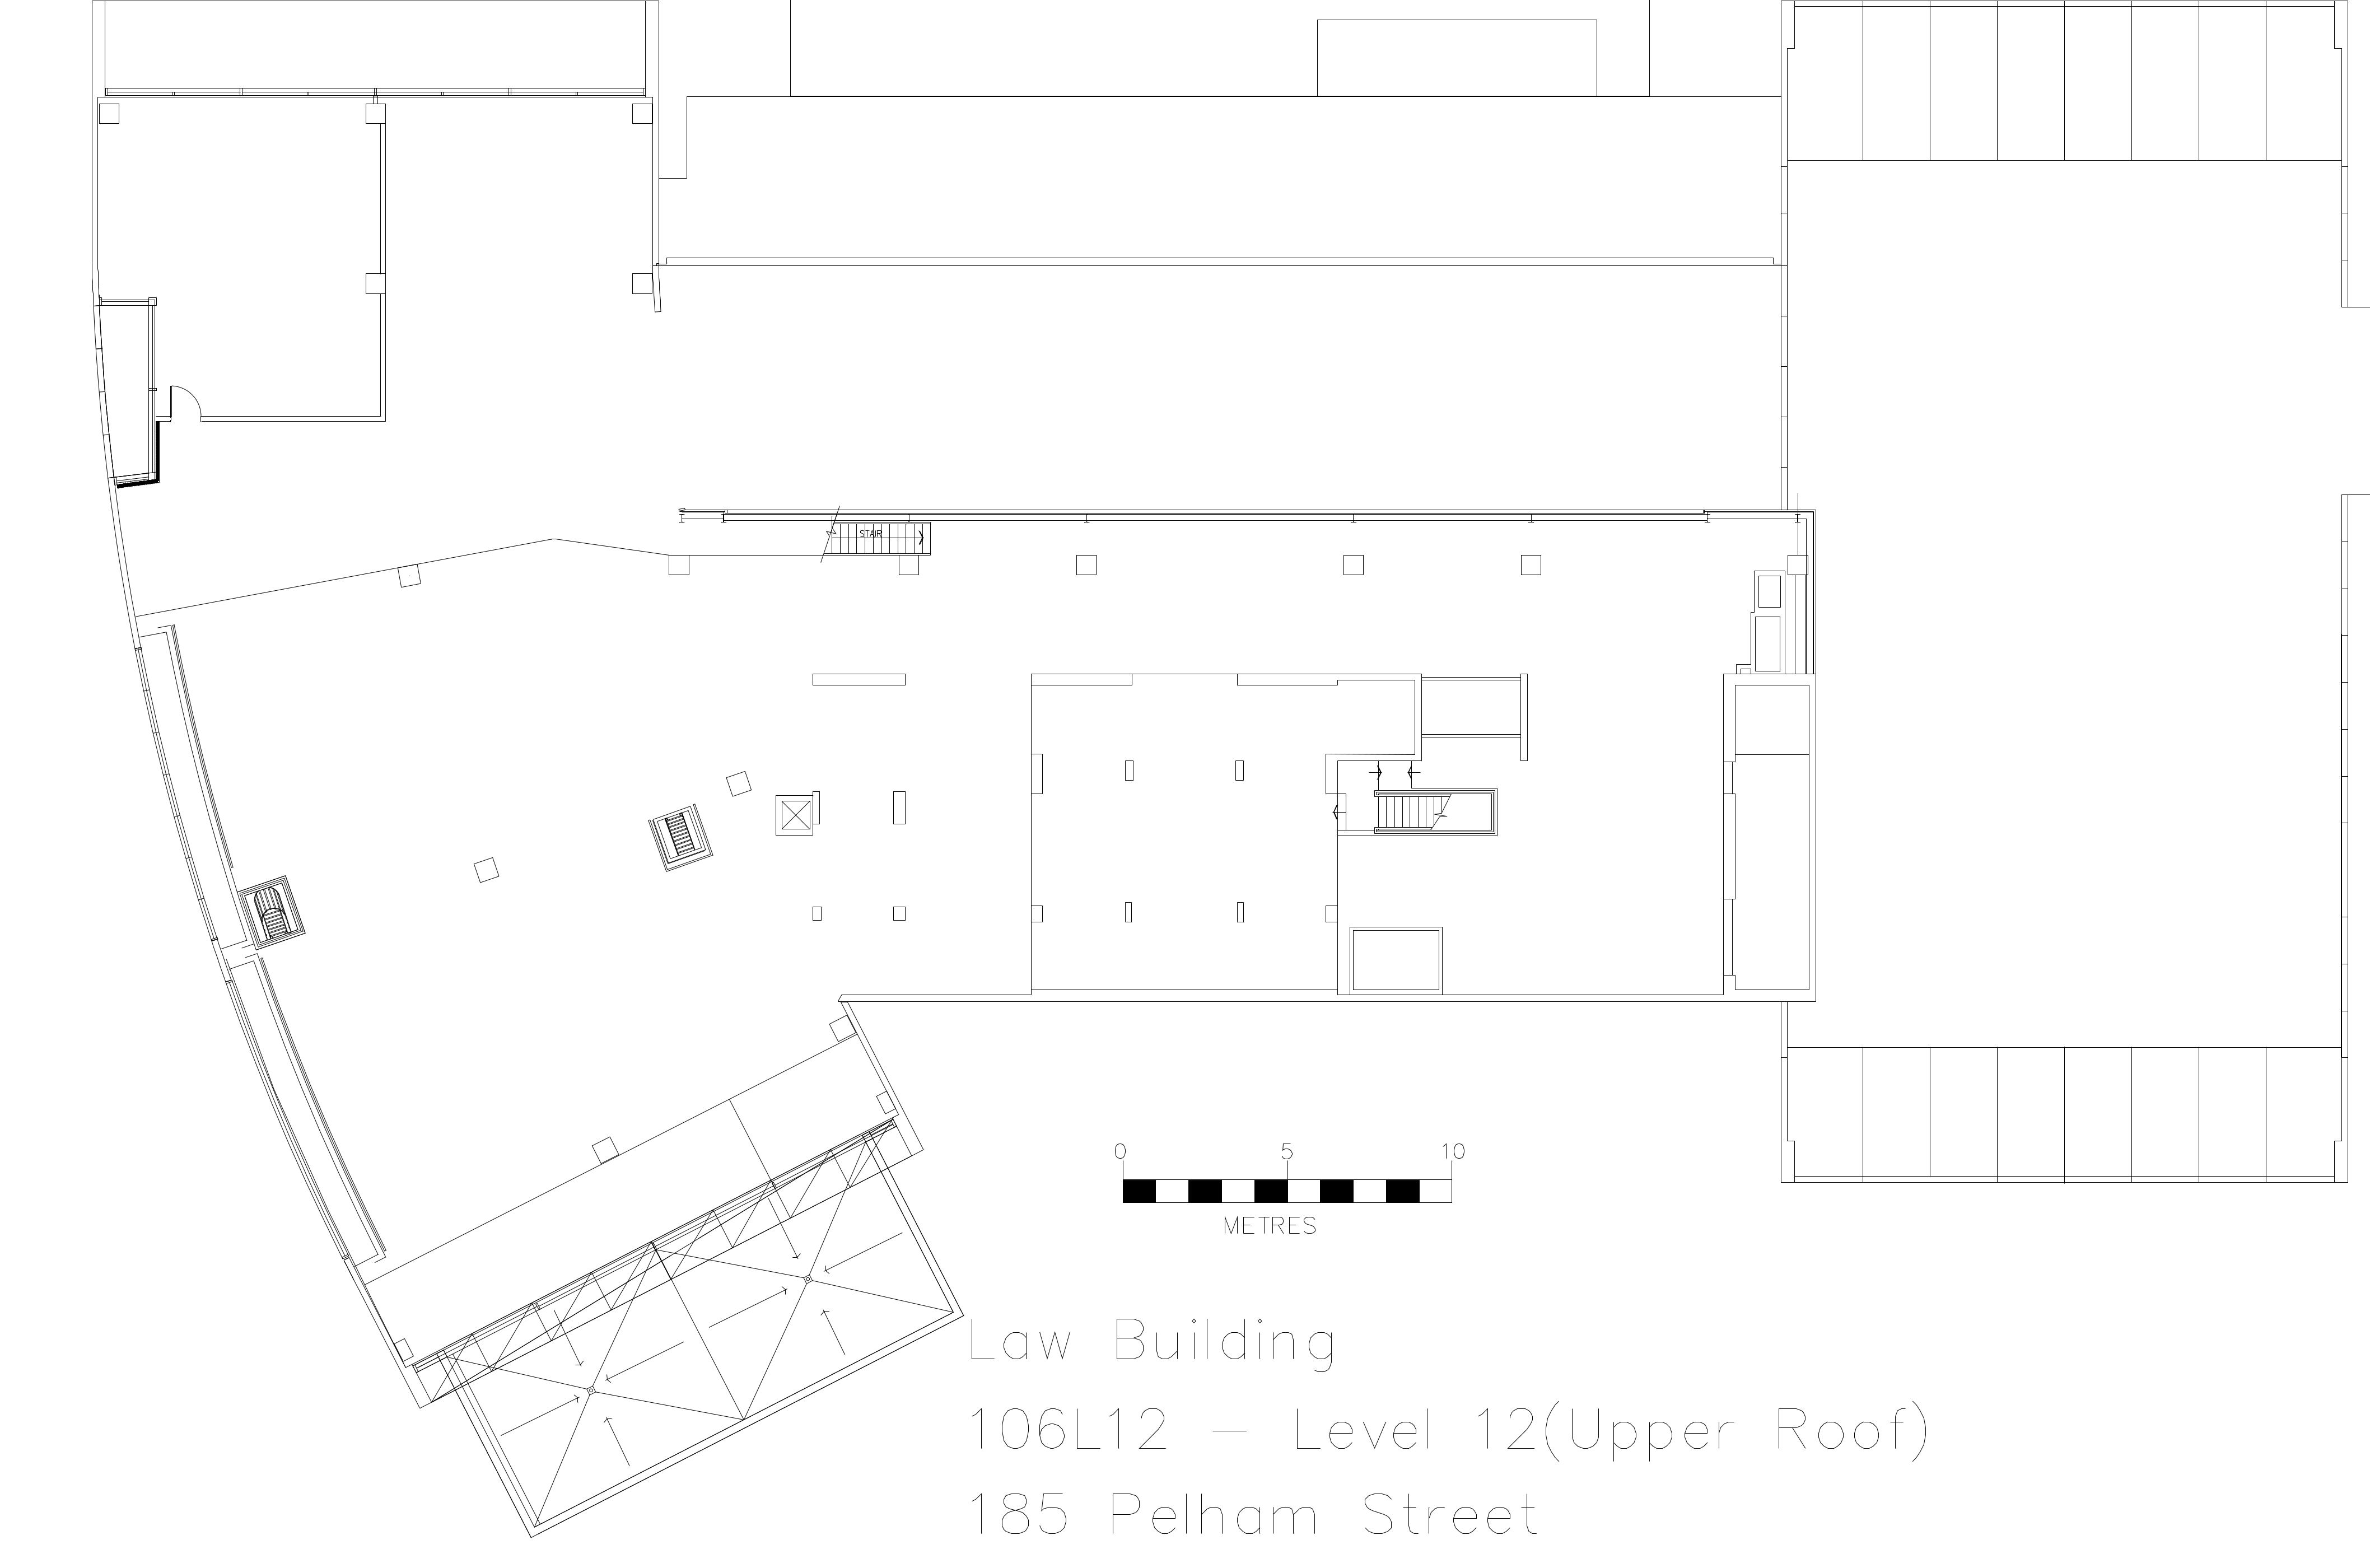room: (1336, 777, 1504, 842)
